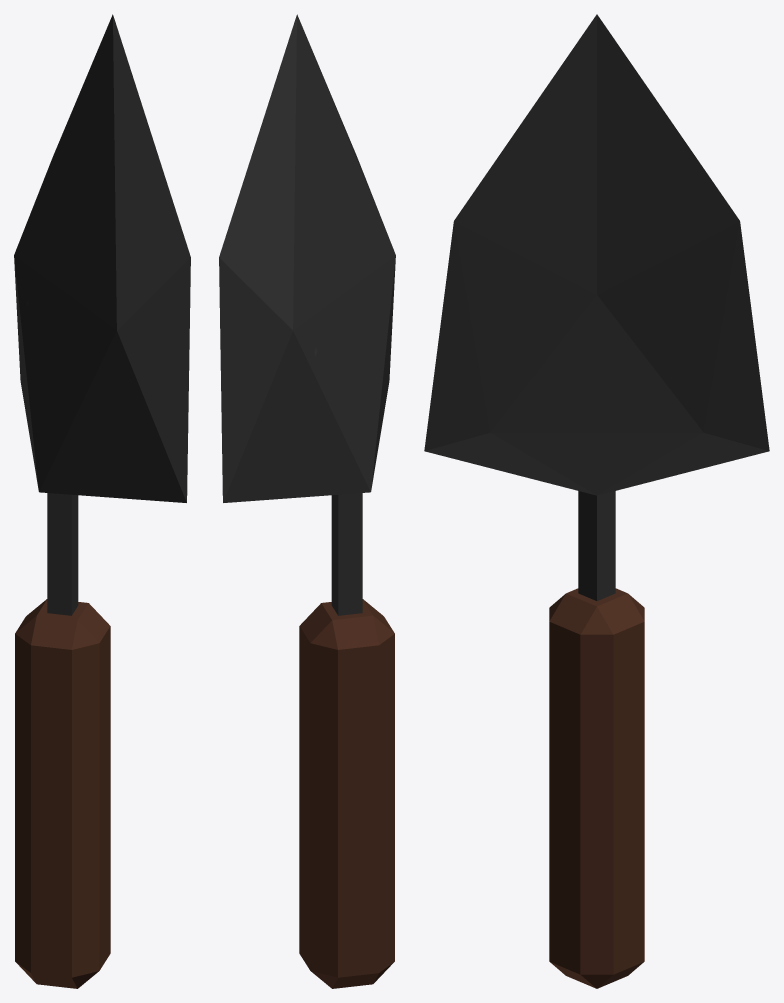
File: Trowel.fbx
3 renders of one model, left to right at view 1: azimuth 30°, elevation 25°; view 2: azimuth 150°, elevation 25°; view 3: azimuth 270°, elevation 25°, orthographic. The views are drawn at different scales.
Parts seen in each view (by area): view 1: Cylinder; view 2: Cylinder; view 3: Cylinder.
Part boxes in pixels (<box>): Cylinder: <box>14,14,190,988</box>; Cylinder: <box>219,14,395,988</box>; Cylinder: <box>424,14,769,988</box>.
Size of the model in its own units: 58.42 by 537 by 170.
